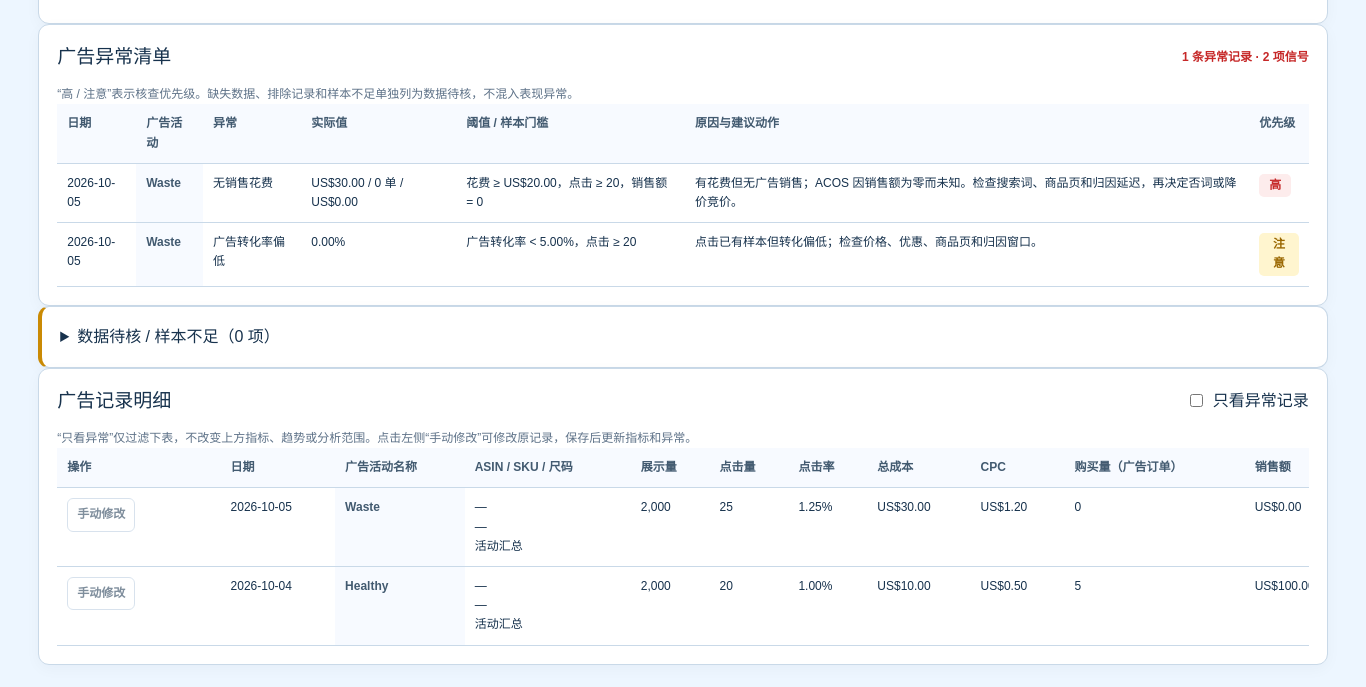
it: only-anomalies narrows the record list and does not redefine KPI totals
(page scrolled)
Click the checkbox labelled "只看异常记录".
click(1196, 401)  # box 1190,394 -> 1203,407
(page scrolled)
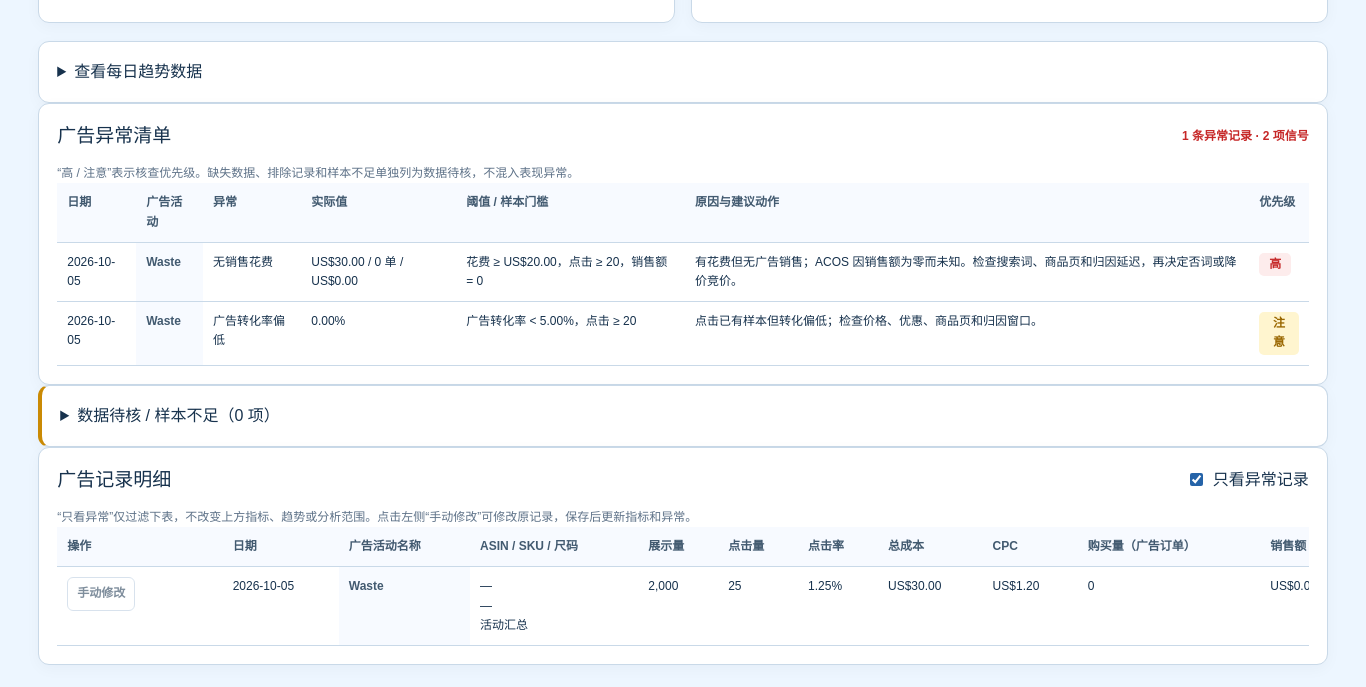
Expected: the table named "广告记录明细" shows "Waste", 349,580 -> 384,594
Result: the column heading "广告记录明细" no longer shows "Healthy"
